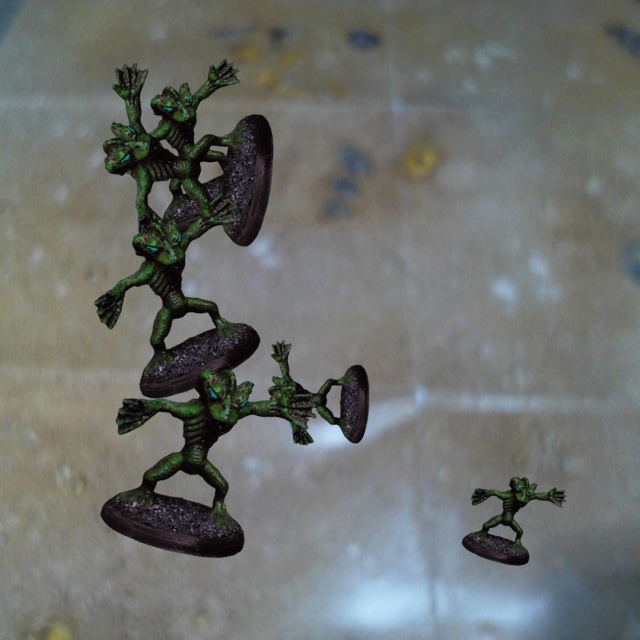pieza_juego: (100, 369, 316, 557), (94, 193, 259, 398), (103, 63, 273, 246), (120, 59, 262, 236), (268, 340, 368, 444), (462, 477, 565, 565)
